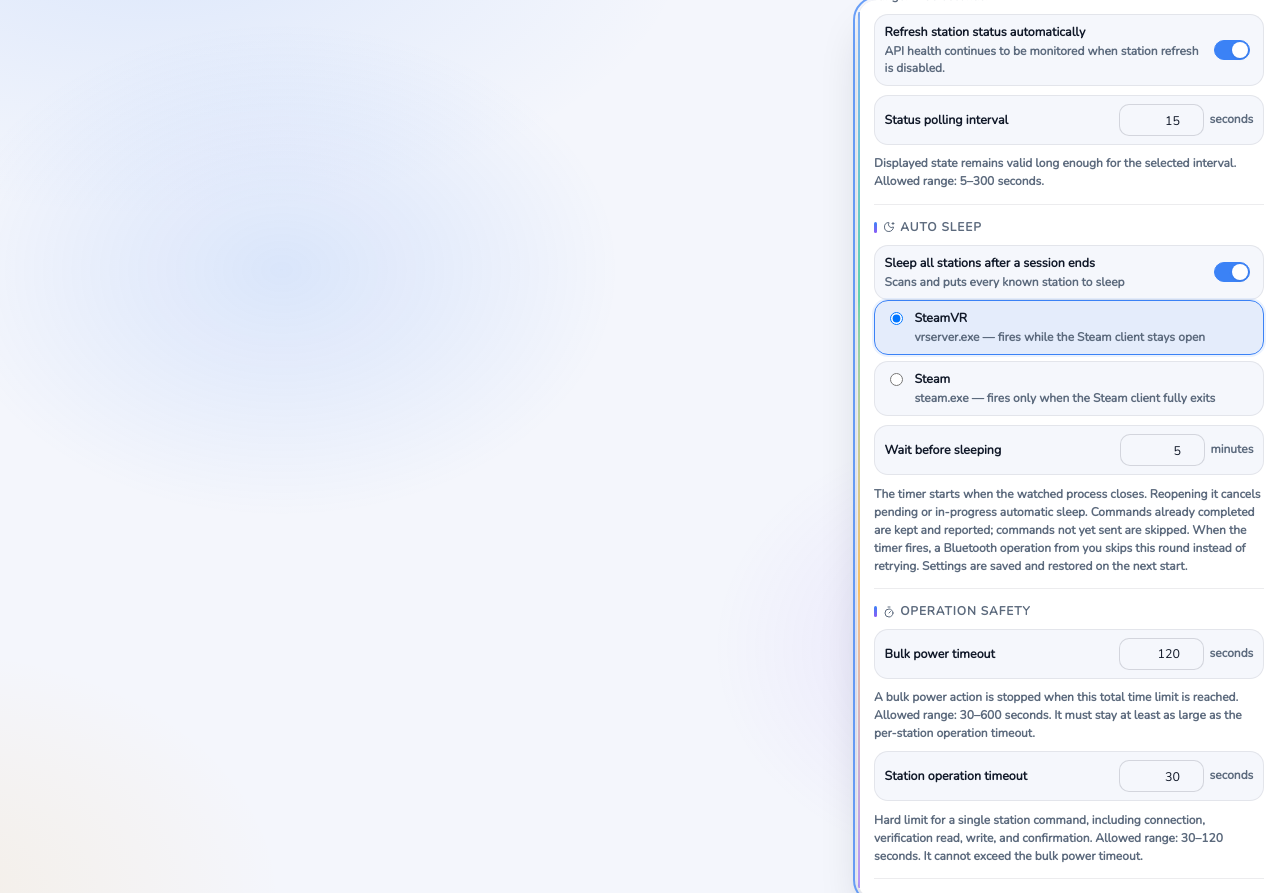
SettingsDrawer auto sleep › clamps out-of-range delays instead of saving them
(page scrolled)
Replace the text in the number field labelled "Wait before sleeping" with "999": (1162,450) top-left (1120, 434), bottom-right (1205, 466)
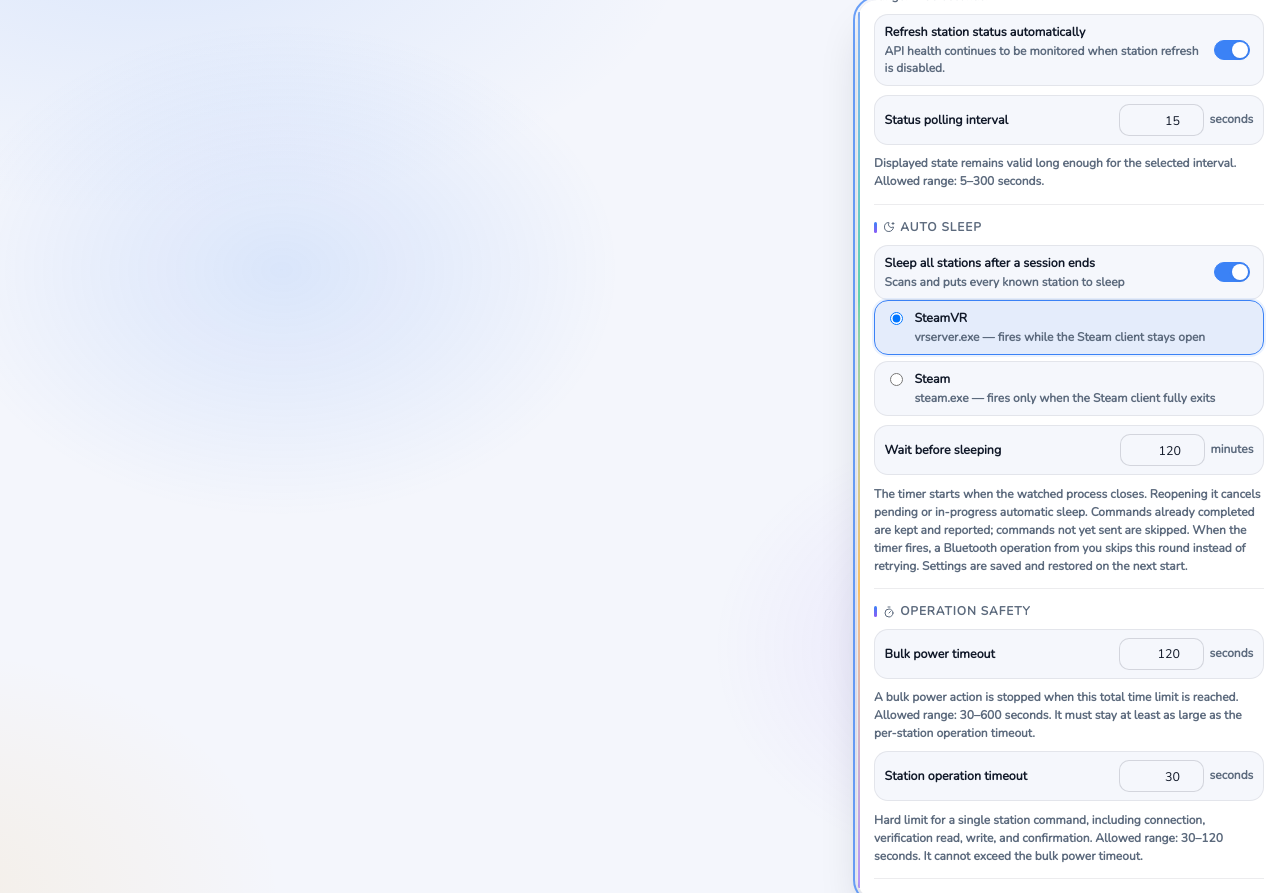
Check: the number field labelled "Wait before sleeping" holds "120", box top-left (1120, 434), bottom-right (1205, 466)
